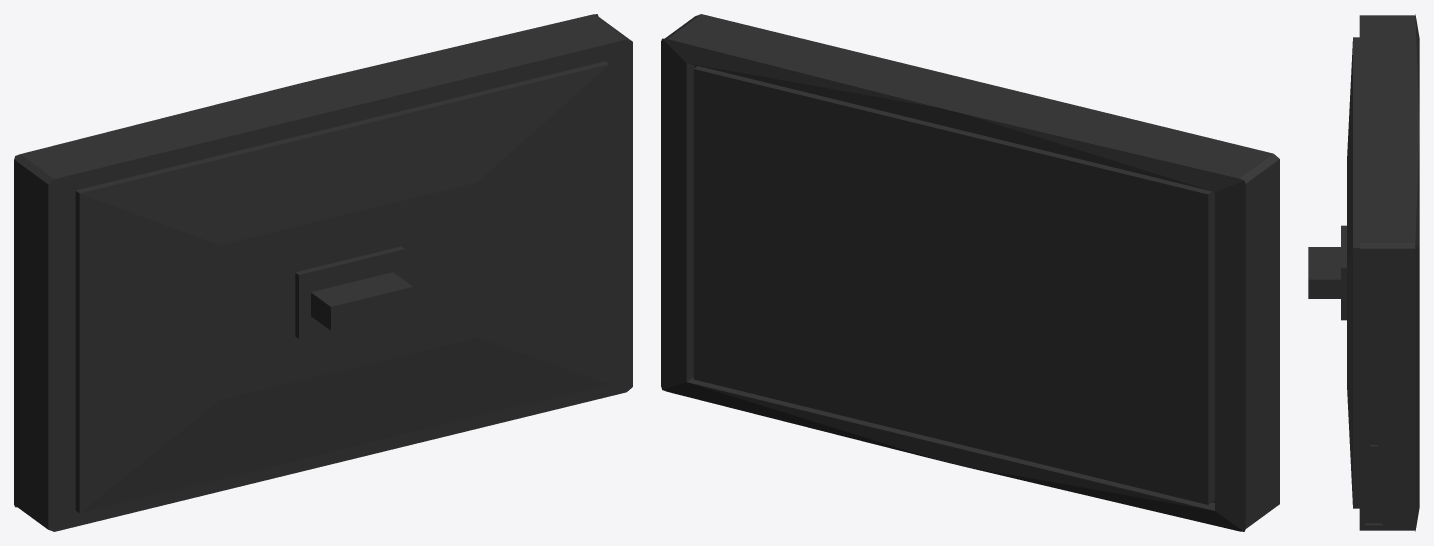
The picture shows the model from 3 angles, left to right: view 1: azimuth 30°, elevation 25°; view 2: azimuth 150°, elevation 25°; view 3: azimuth 270°, elevation 25°; orthographic projection. The views are drawn at different scales.
Visible parts, largest first — view 1: TV; view 2: TV; view 3: TV.
Part boxes in pixels (x1=…): TV: x1=14, y1=14, x2=632, y2=531; TV: x1=661, y1=14, x2=1279, y2=531; TV: x1=1308, y1=14, x2=1419, y2=531.
Bounding box in the file's own units: 131 × 75.25 × 26.36.
1 material, 1 textured.
